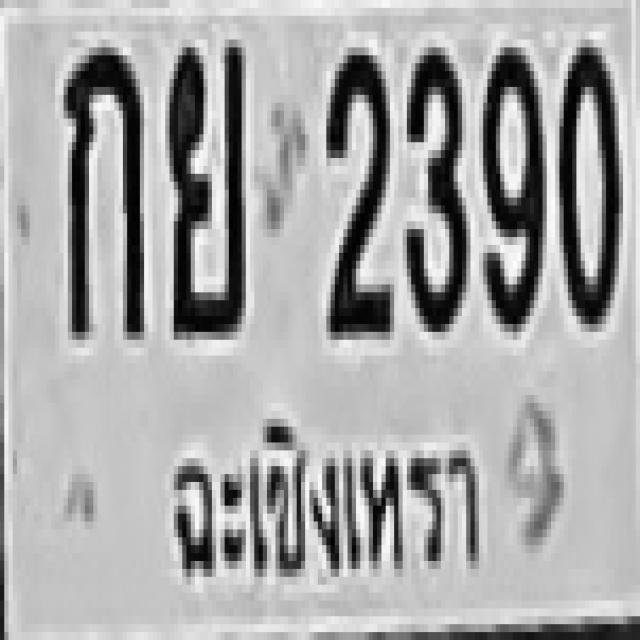0: (556, 39, 622, 329)
10GorGai: (62, 45, 144, 342)
2: (324, 47, 393, 335)
3: (404, 39, 467, 334)
43YorYak: (166, 40, 247, 338)
9: (479, 39, 547, 330)
Chachoengsao: (158, 393, 480, 591)
